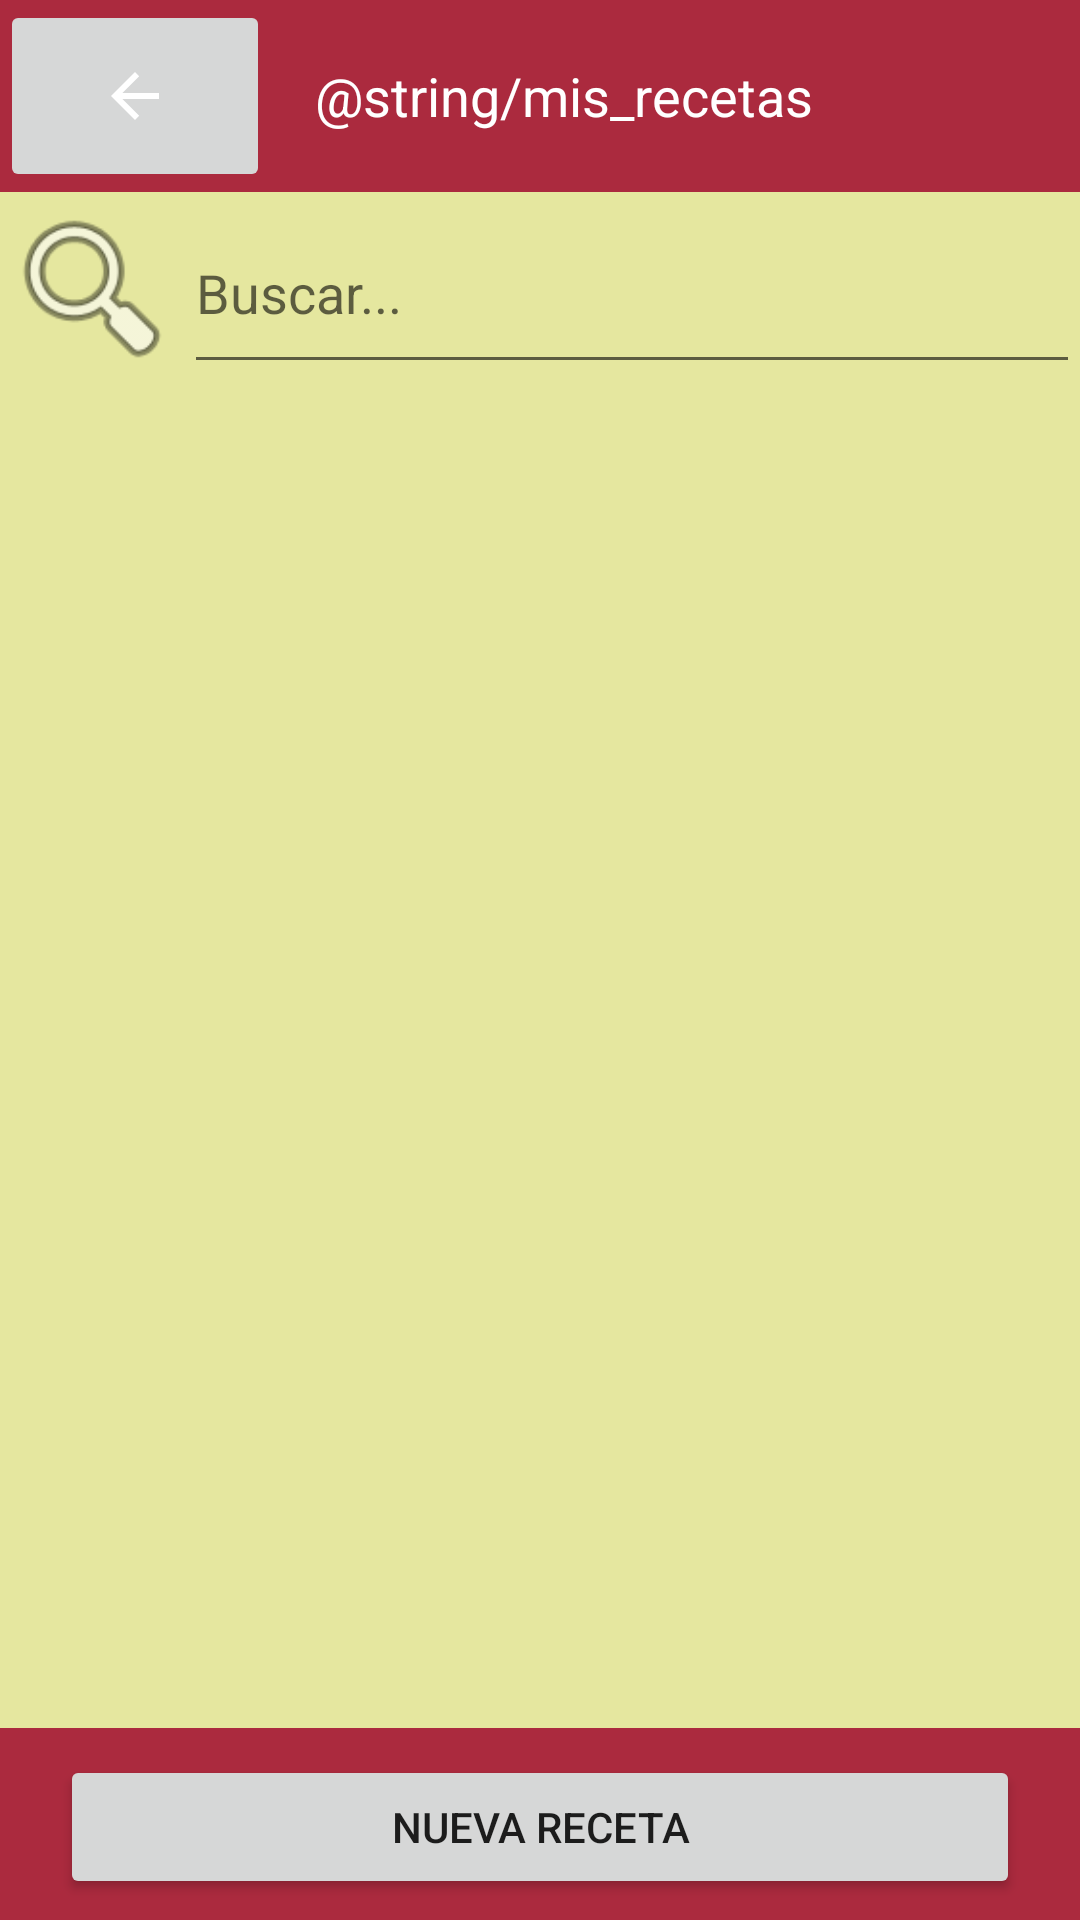

Locate icon controls on the screen. Image size 1080w x 1920h, boxes as BBox(x1, y1, x2, y2).
search: BBox(24, 221, 160, 357)
